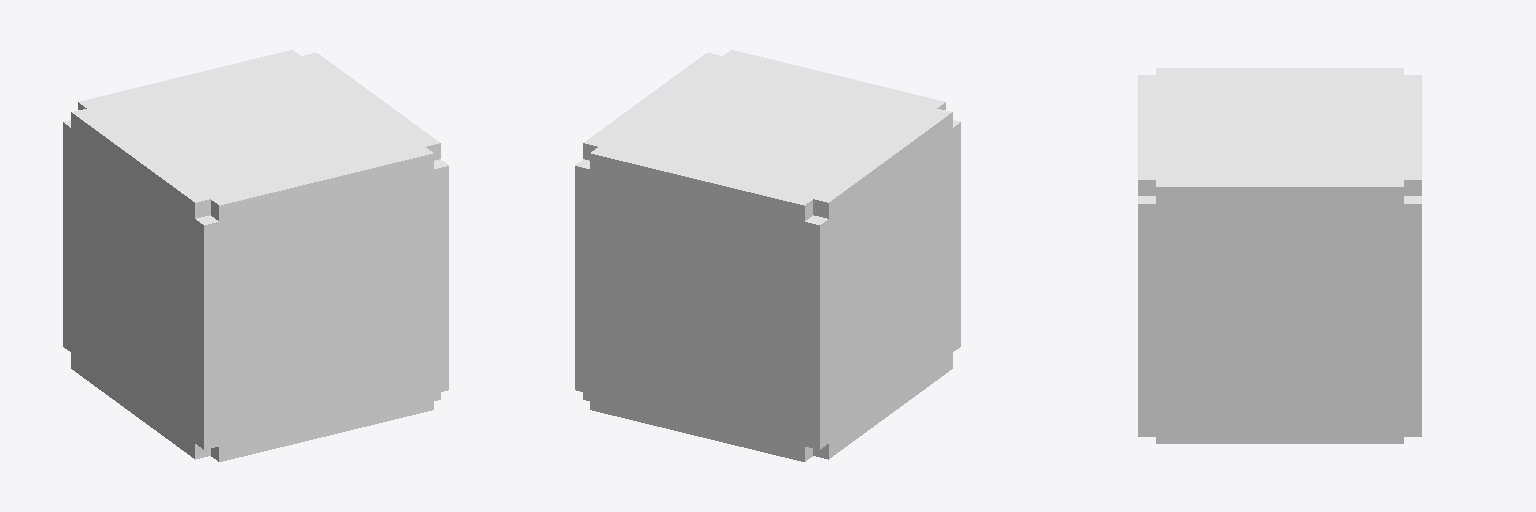
File: Dice.obj
3 renders of one model, left to right at view 1: azimuth 30°, elevation 25°; view 2: azimuth 150°, elevation 25°; view 3: azimuth 270°, elevation 25°, orthographic.
Parts seen in each view (by area): view 1: object 1; view 2: object 1; view 3: object 1.
Part boxes in pixels (left/top/right/bottom): object 1: left=63, top=50, right=448, bottom=461; object 1: left=575, top=50, right=960, bottom=461; object 1: left=1138, top=68, right=1421, bottom=443.
Bounding box in the file's own units: 1.6 × 1.6 × 1.6.